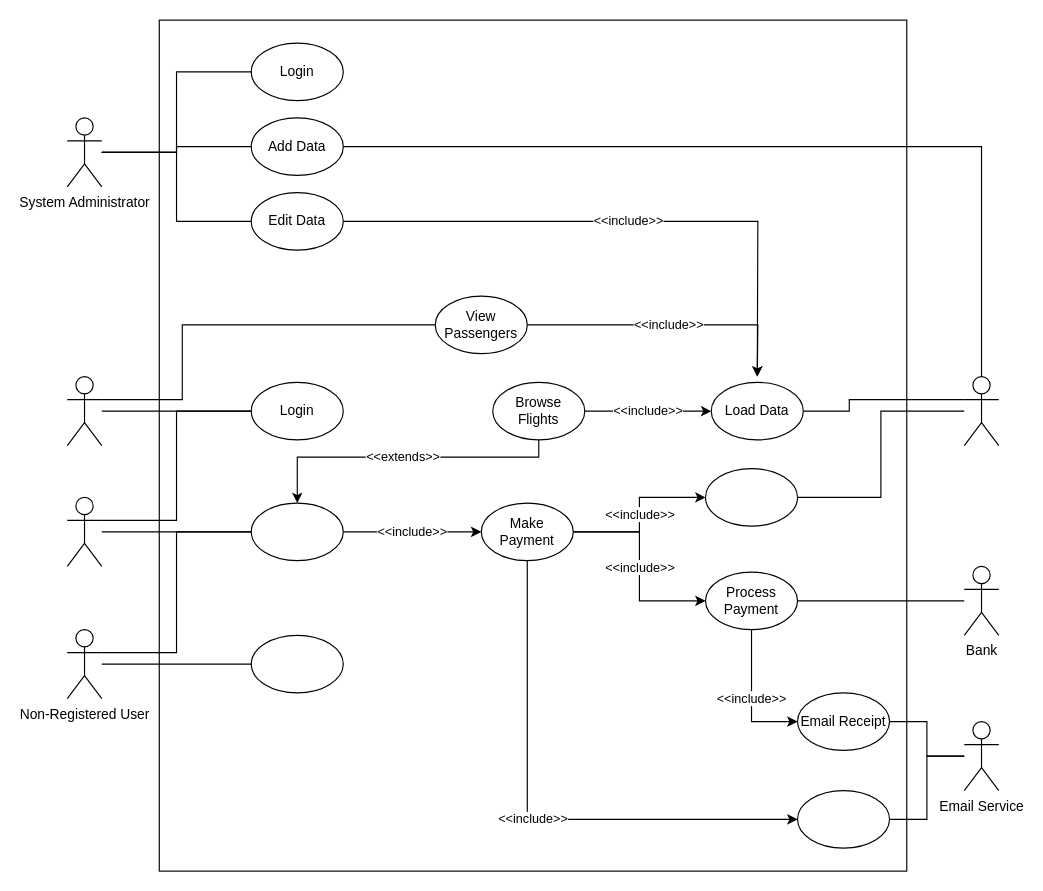
This 1043x891 diagram has some shape labels left out. Here are the shapes that lost their labels. From the top down, the box of each, then its label:
(66, 375, 102, 446): Flight Attendant
(963, 375, 999, 446): Database
(704, 467, 798, 526): Save Data
(66, 496, 102, 566): Registered User
(250, 502, 343, 561): Book Flight
(250, 634, 343, 693): Register
(796, 789, 890, 848): Email Flight Details
